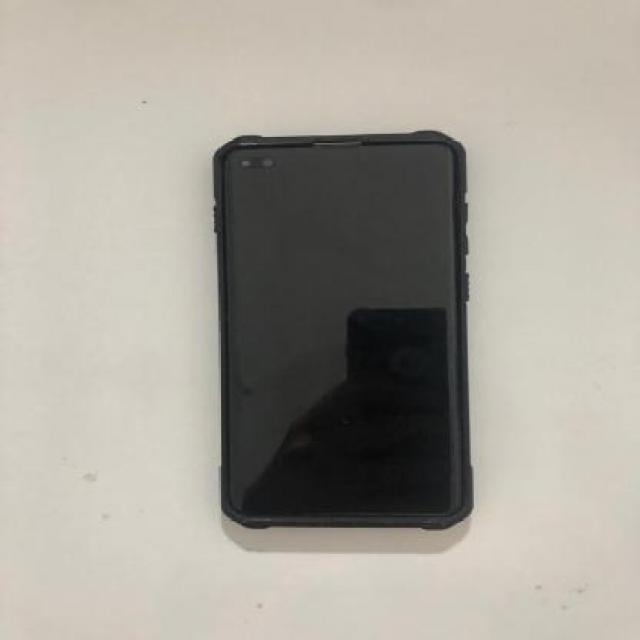phone: (209, 129, 473, 532)
